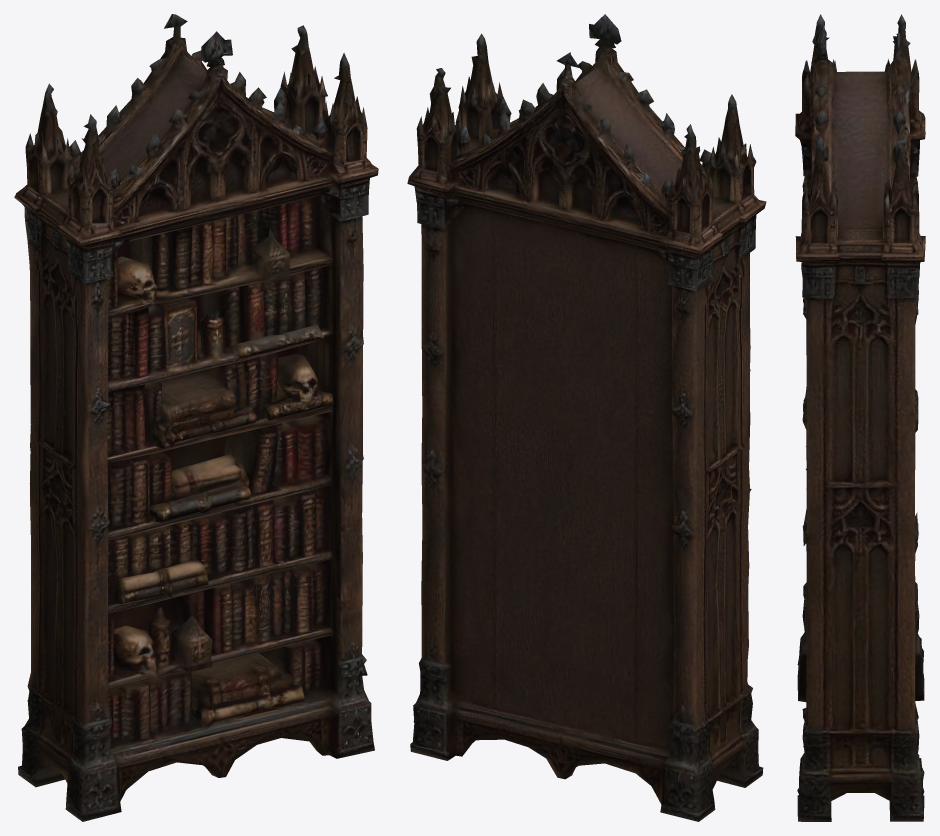
The model's file is bookcase.glb.
3 renders of one model, left to right at view 1: azimuth 30°, elevation 25°; view 2: azimuth 150°, elevation 25°; view 3: azimuth 270°, elevation 25°, orthographic. The views are drawn at different scales.
Parts seen in each view (by area): view 1: bookcase; view 2: bookcase; view 3: bookcase.
Part boxes in pixels (x1,y1,x2,y2): bookcase: (14, 14, 378, 821); bookcase: (407, 14, 766, 821); bookcase: (795, 14, 925, 821).
Size of the model in its own units: 1.26 by 3 by 0.4871.
1 material, 1 textured.
